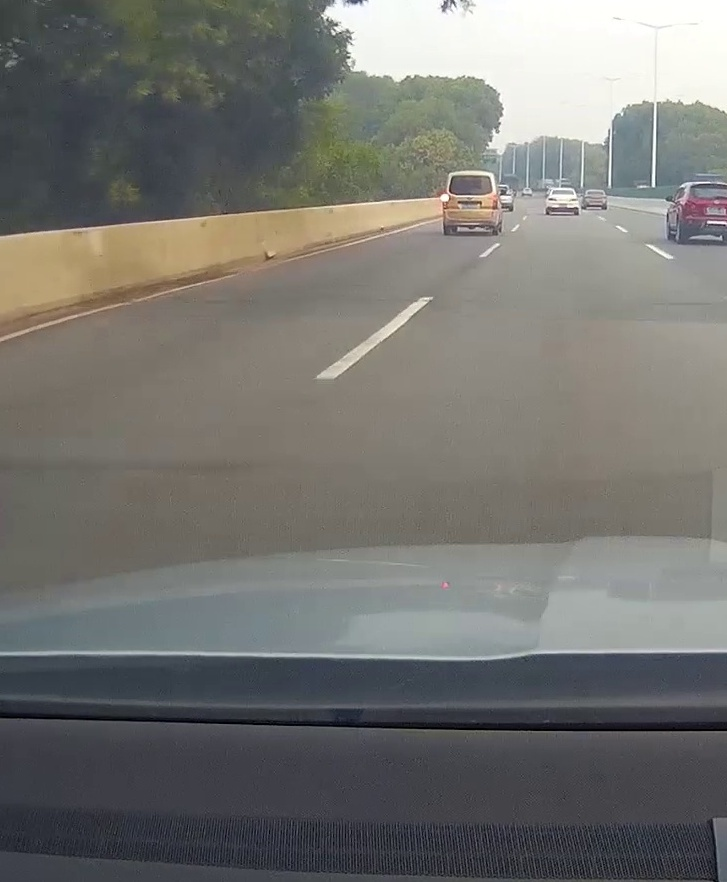L_light: (443, 194, 448, 209), (549, 198, 557, 201)
R_light: (493, 195, 498, 209), (570, 198, 577, 201)
T_light: (466, 176, 474, 178), (560, 190, 566, 192)
day-left: (443, 172, 498, 235)
day-no: (546, 188, 579, 215)
